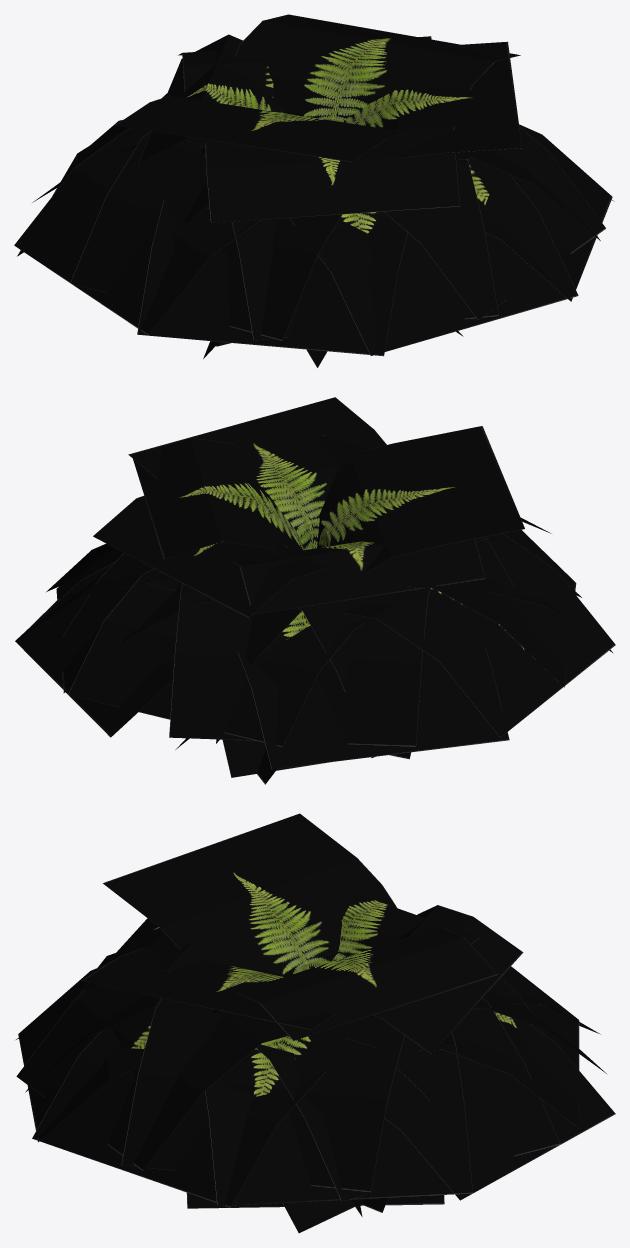
Rendered from fern-origin.glb.
3 views of the same model, one above another, from view 1: azimuth 30°, elevation 25°; view 2: azimuth 150°, elevation 25°; view 3: azimuth 270°, elevation 25° (orthographic). The views are drawn at different scales.
Visible parts, largest first — view 1: Plane_Material_0; view 2: Plane_Material_0; view 3: Plane_Material_0.
Boxes of the visible parts, bbox=[...] form: Plane_Material_0: bbox=[14, 14, 614, 367]; Plane_Material_0: bbox=[15, 397, 615, 784]; Plane_Material_0: bbox=[16, 813, 615, 1233].
Size of the model in its own units: 4.64 by 2.13 by 4.68.
1 material, 1 textured.
